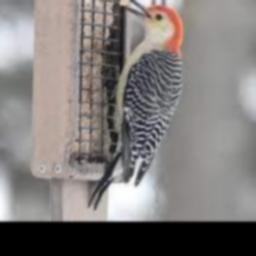Woodpecker: (88, 0, 183, 210)
